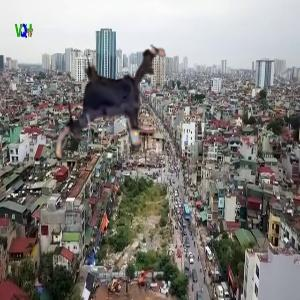drone: (37, 29, 186, 178)
